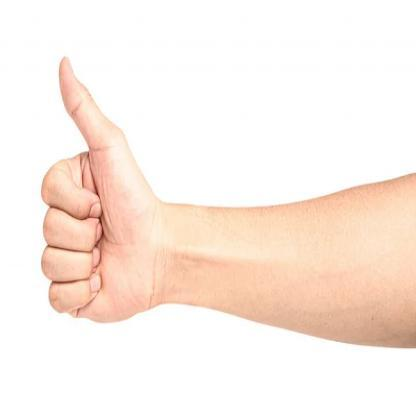thumb_up: (38, 51, 158, 326)
